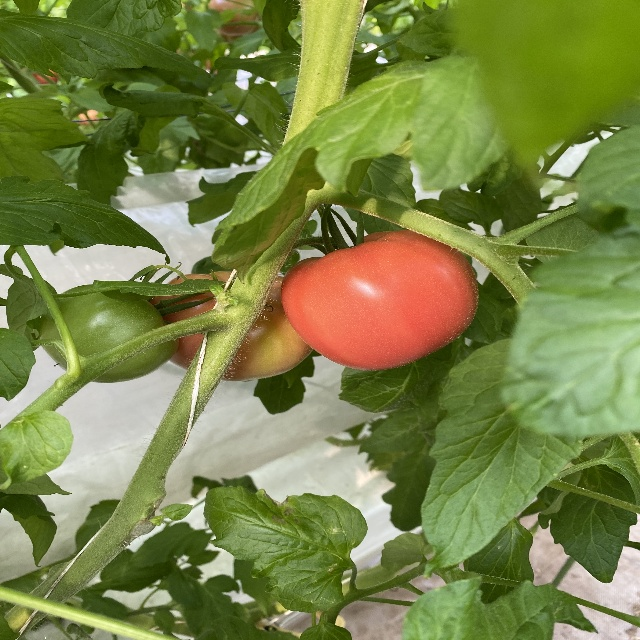b_fully_ripened: (279, 230, 480, 371)
b_green: (37, 283, 179, 383)
b_half_ripened: (150, 269, 315, 382)
